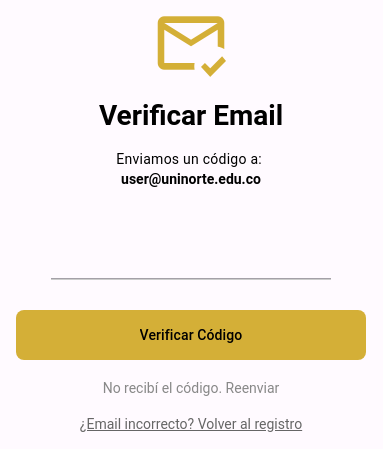
Scenario: VerificationEmail Screen › solo permite ingresar números en el código de verificación
This screenshot has width=383, height=449.
In the field with test id "code-input": (191, 248) [51, 218, 331, 278], type "abc123!@#"
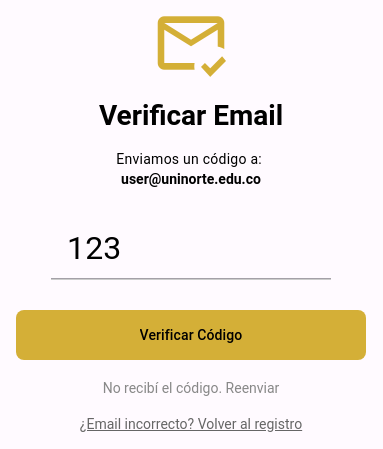
Result: the field with test id "code-input" holds "123" at [51, 218, 331, 278]
